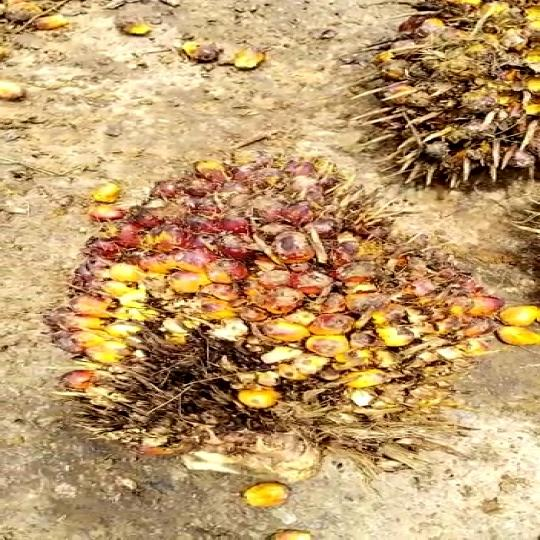masak: (62, 159, 494, 481), (314, 2, 540, 187)
